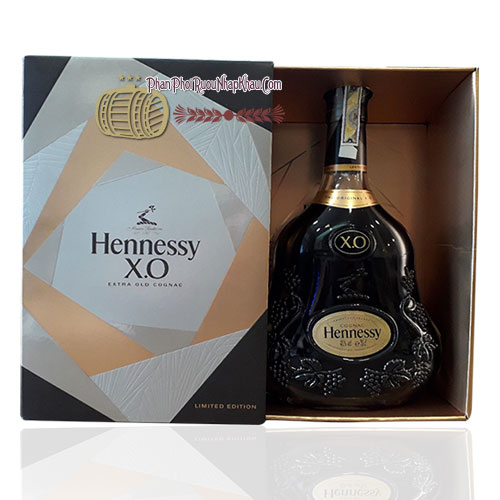Hennessy: (255, 73, 451, 418)
